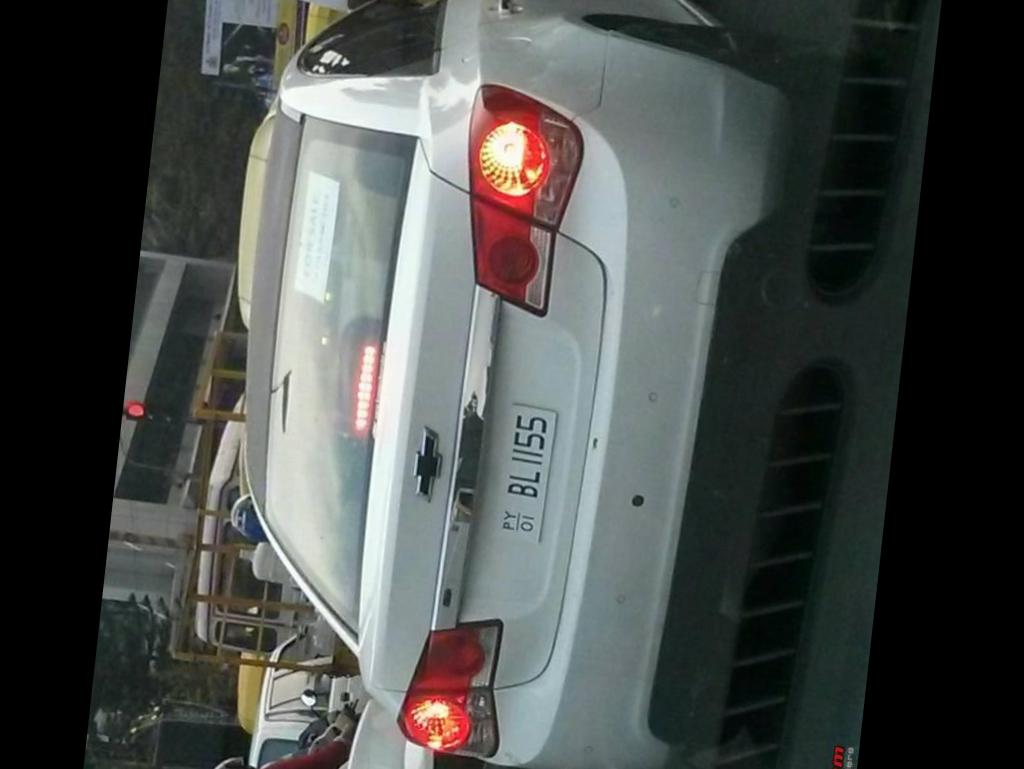plate: (488, 396, 563, 552)
